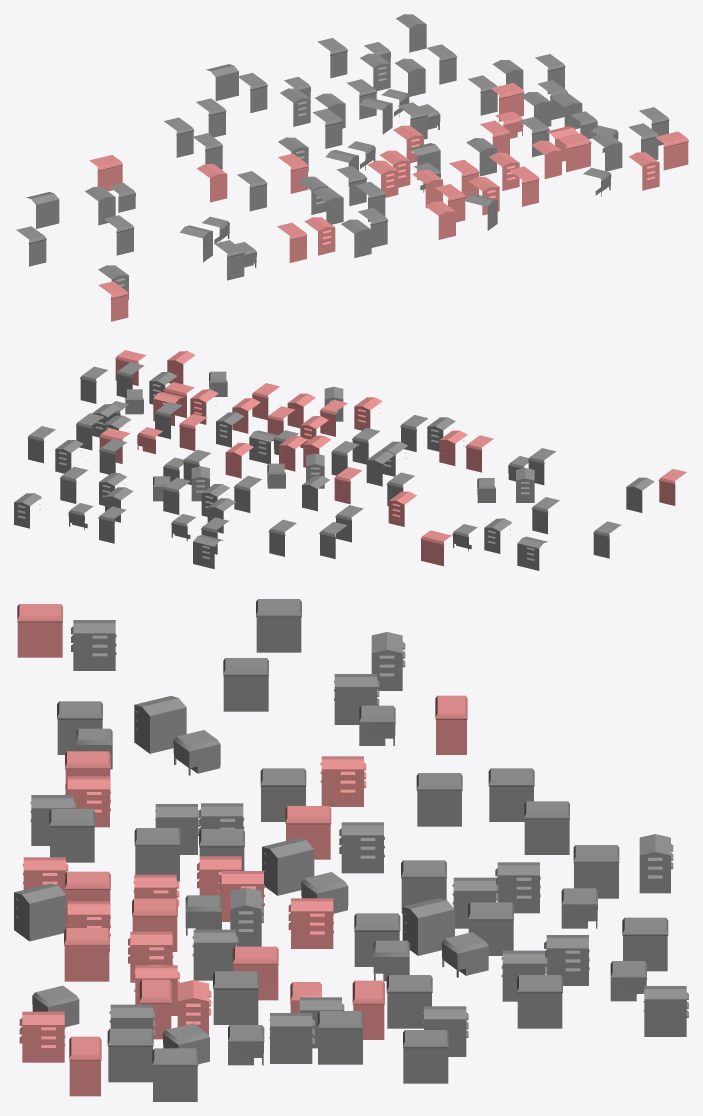
The model's file is SM_ENV_KNVLLG03_House_Distance_C.gltf.
The picture shows the model from 3 angles, top to bottom: view 1: azimuth 30°, elevation 25°; view 2: azimuth 150°, elevation 25°; view 3: azimuth 270°, elevation 25°; orthographic projection. The views are drawn at different scales.
Visible parts, largest first — view 1: SM_ENV_KNVLLG03_House_Distance_C; view 2: SM_ENV_KNVLLG03_House_Distance_C; view 3: SM_ENV_KNVLLG03_House_Distance_C.
Boxes of the visible parts, x1,y1,x2,y2 form: SM_ENV_KNVLLG03_House_Distance_C: (16, 14, 688, 321); SM_ENV_KNVLLG03_House_Distance_C: (14, 350, 686, 570); SM_ENV_KNVLLG03_House_Distance_C: (14, 599, 688, 1101).
Size of the model in its own units: 511 by 21.63 by 315.
